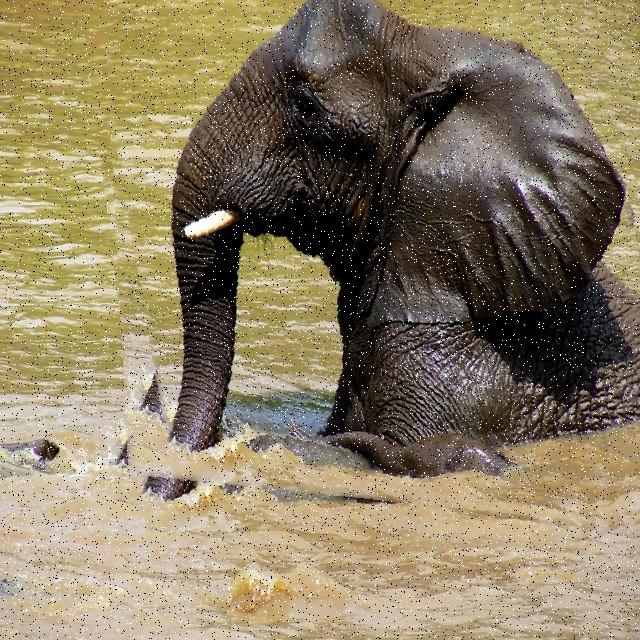elephant: (101, 0, 640, 530)
